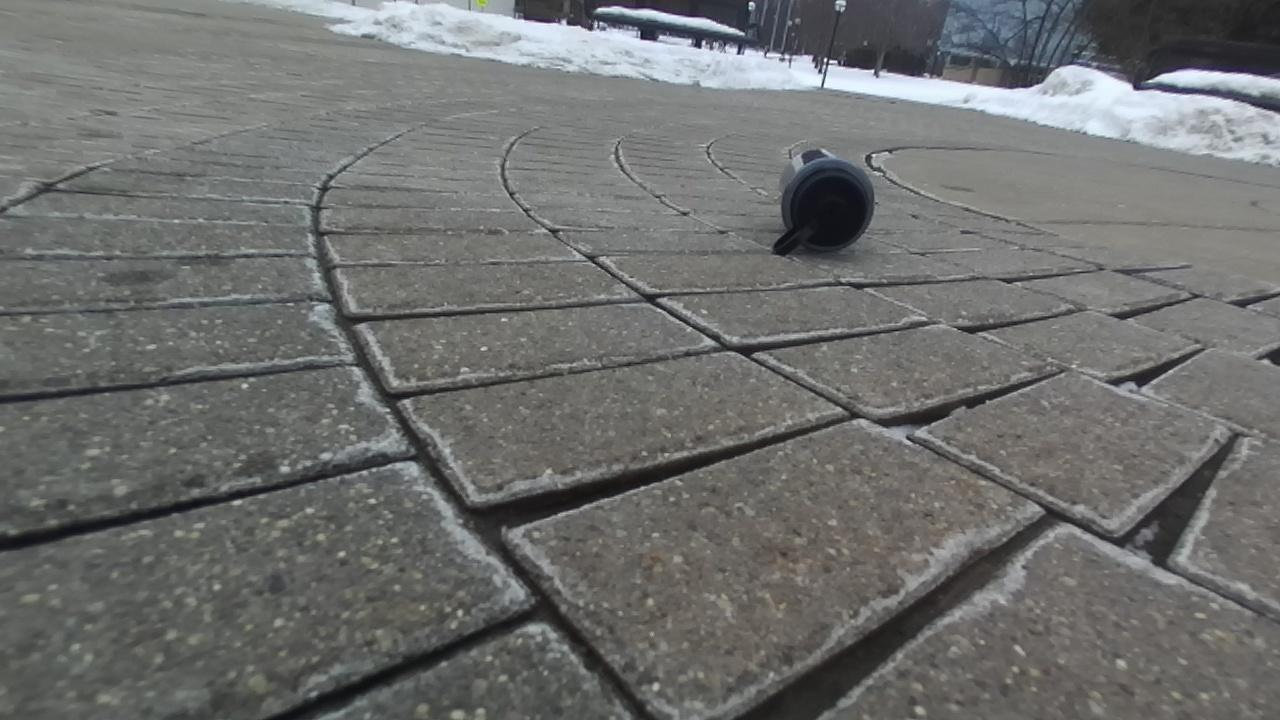bottle: (774, 149, 873, 255)
